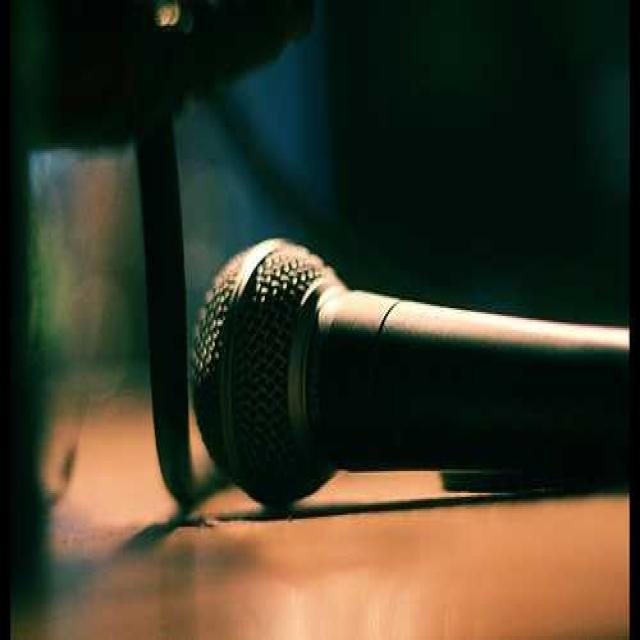microphone: (186, 229, 621, 508)
